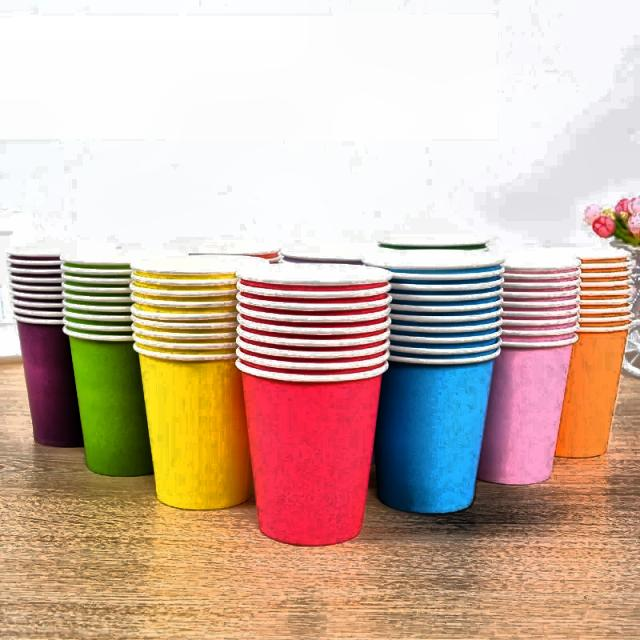Cup: (232, 257, 396, 546), (360, 246, 510, 526), (125, 246, 266, 519), (54, 234, 185, 488), (468, 245, 577, 504), (5, 224, 101, 453), (548, 236, 636, 467)
